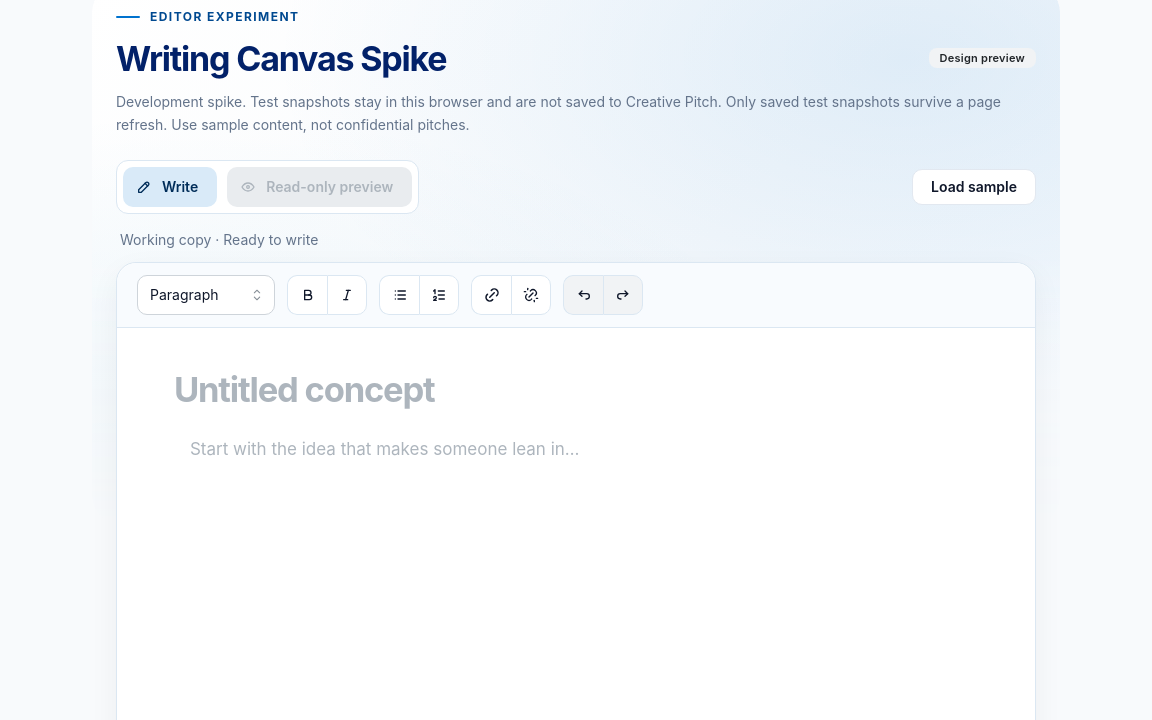
Test case: requires replacement confirmation and never reports successful saving on quota failure
Click the button "Load sample". click: (974, 187)
box: [912,169,1036,205]
(page scrolled)
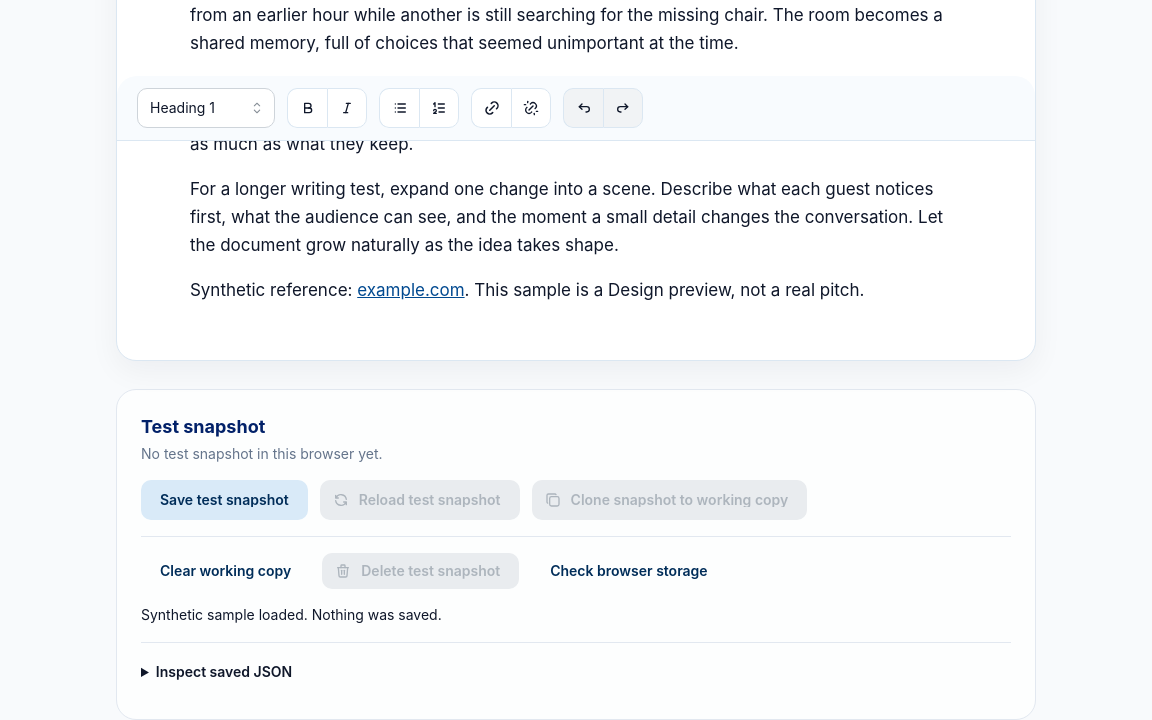
Click the button "Save test snapshot". click: (224, 500)
box: [141,480,308,520]
(page scrolled)
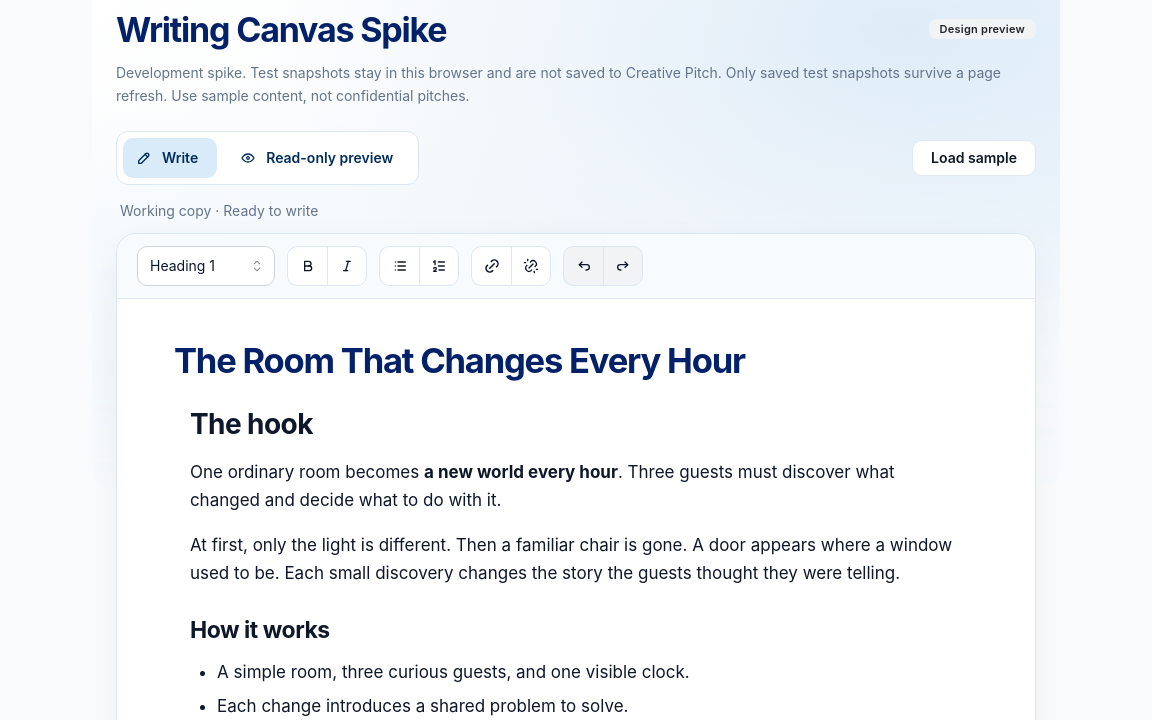
Type " changed" into the text box named "Pitch title". click: (576, 361)
box: [173,339,979,382]
(page scrolled)
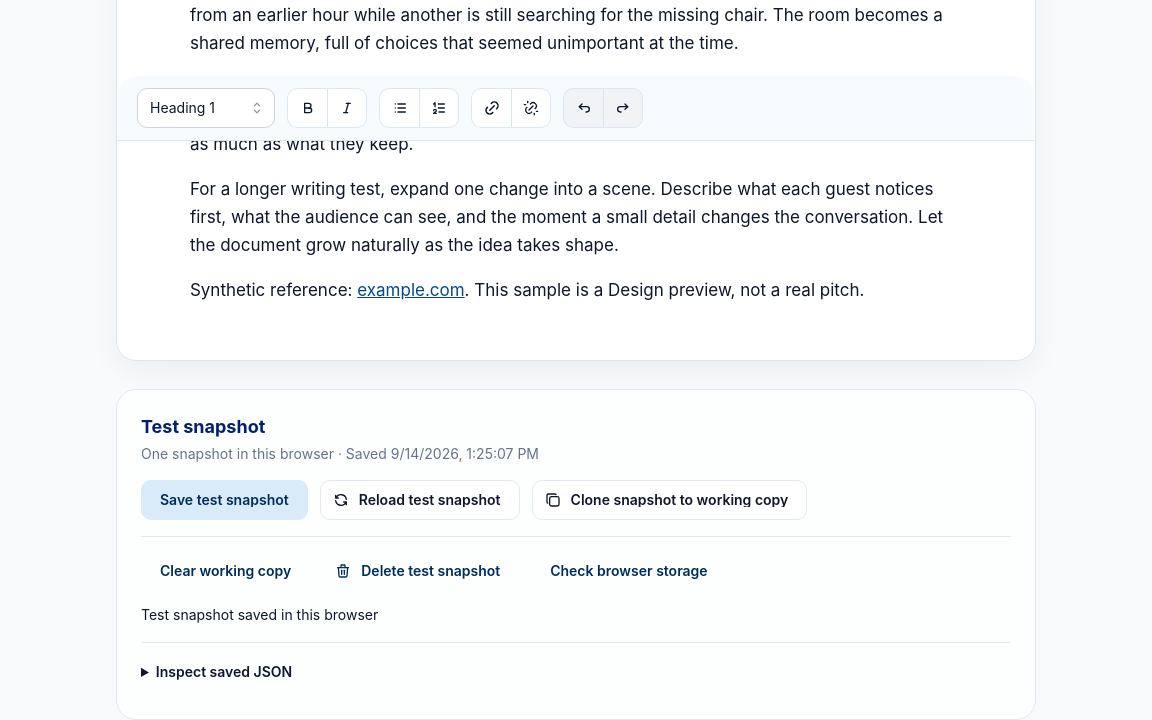
Click the button "Save test snapshot". click: (224, 500)
box: [141,480,308,520]
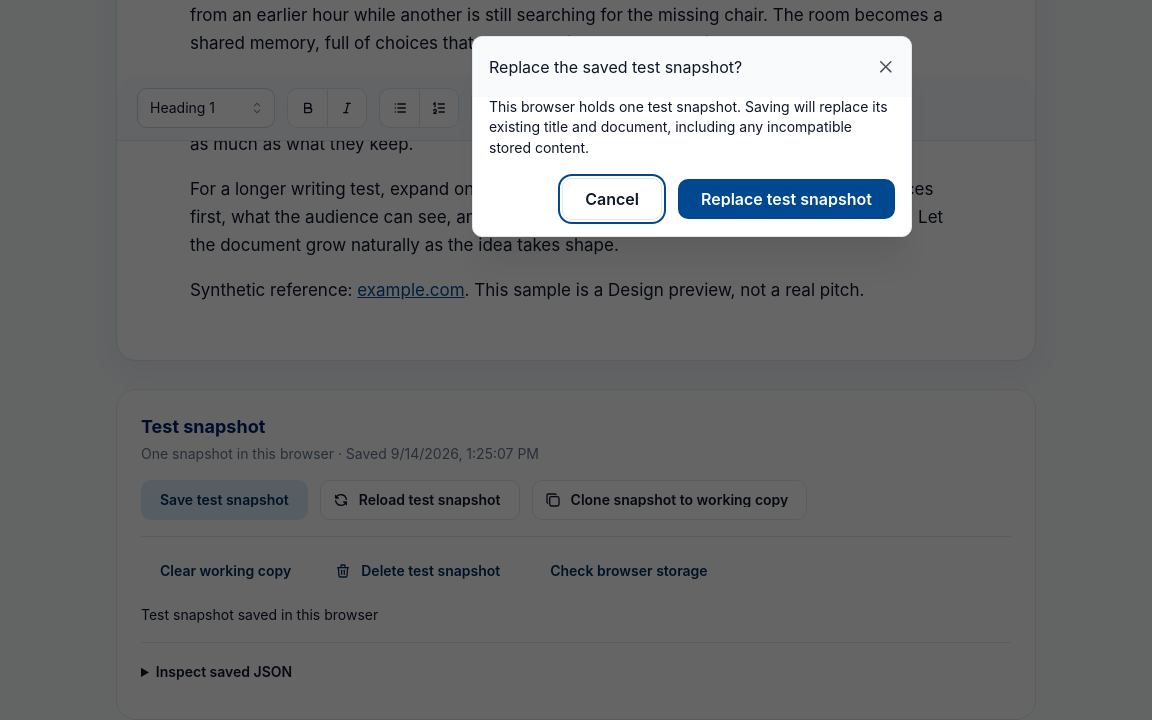
Check: the dialog "Replace the saved test snapshot?" is shown, box [472,36,912,237]
Click the button "Replace test snapshot". click: (786, 199)
box: [678,179,895,219]
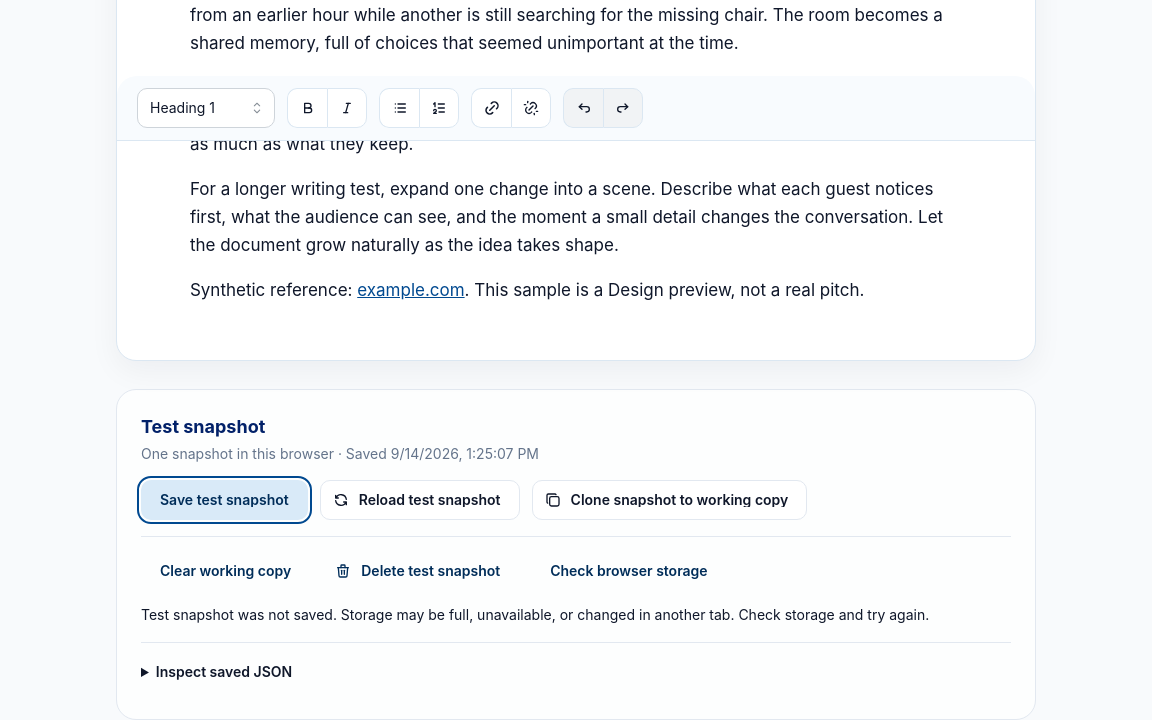
Check: the message shows "Test snapshot was not saved.", box [141,606,929,623]
Check: the message no longer shows "Test snapshot saved in this browser", box [141,605,1011,626]
